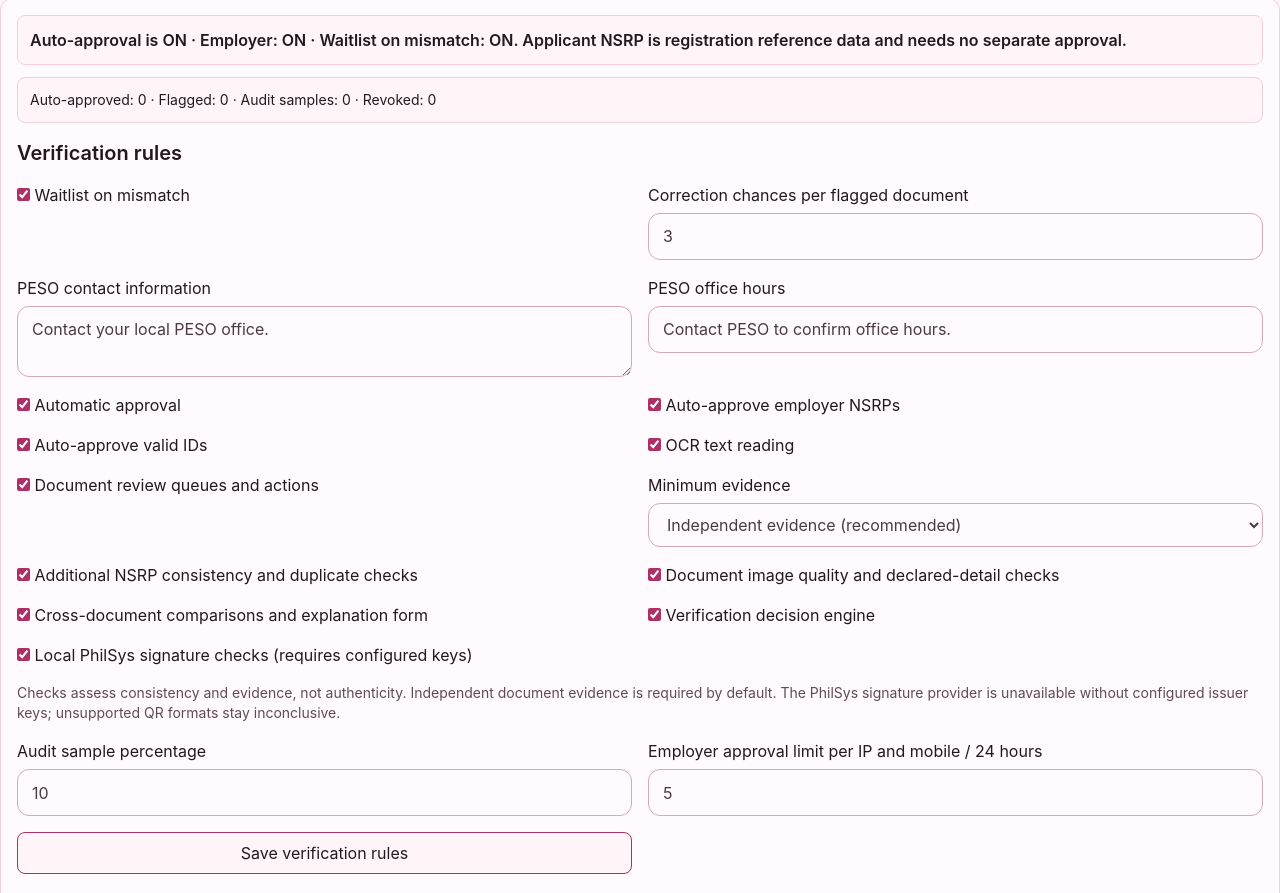
Scenario: loads the ON banner, validates settings controls, and saves admin choices
Expected: the text "Auto-approval is ON" is shown, [17,15,1263,65]
Step 1. Click the checkbox labelled "Auto-approve employer NSRPs" → (654, 404), box [648,398,661,411]
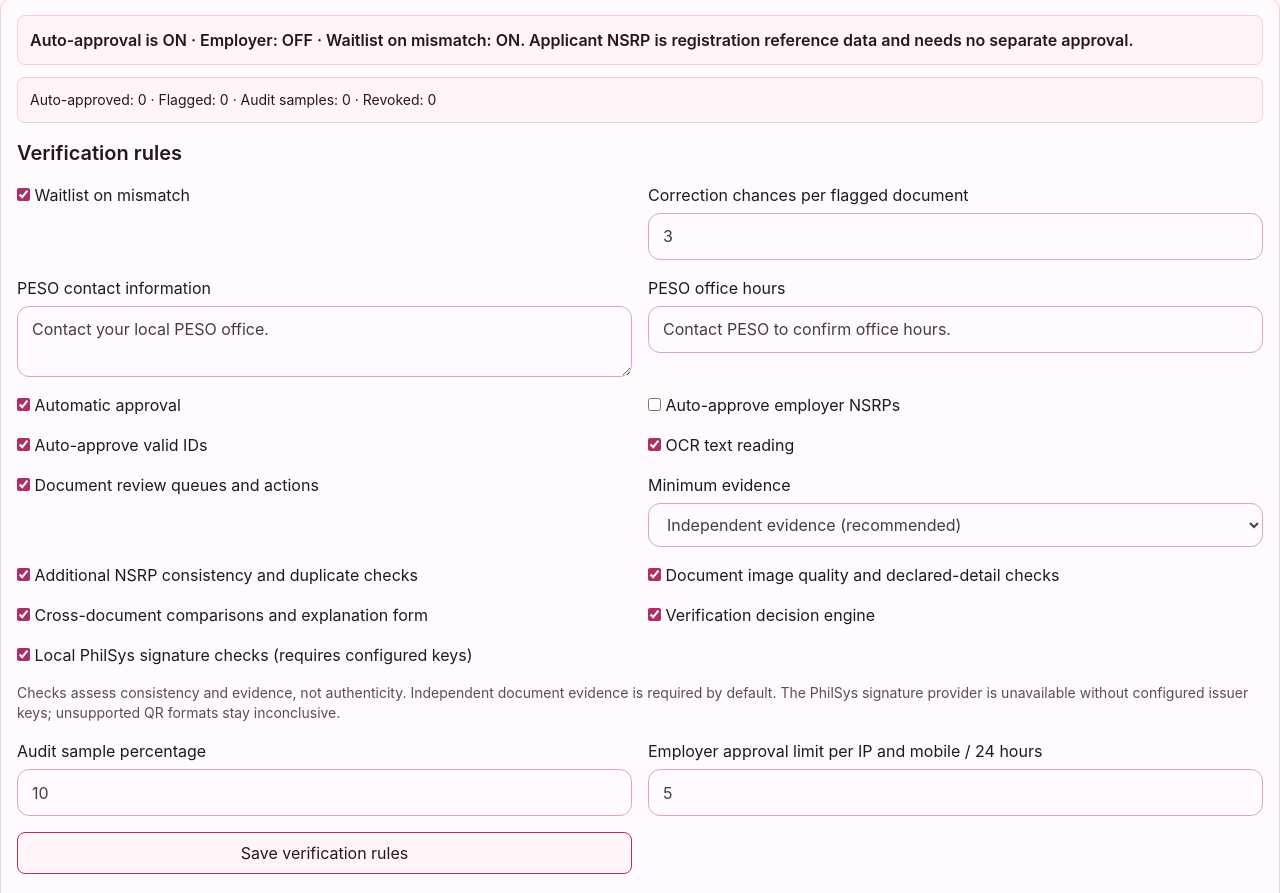
Step 2. Replace the text in the number field labelled "Audit sample percentage" with "25" → (324, 793), box [17,769,632,816]
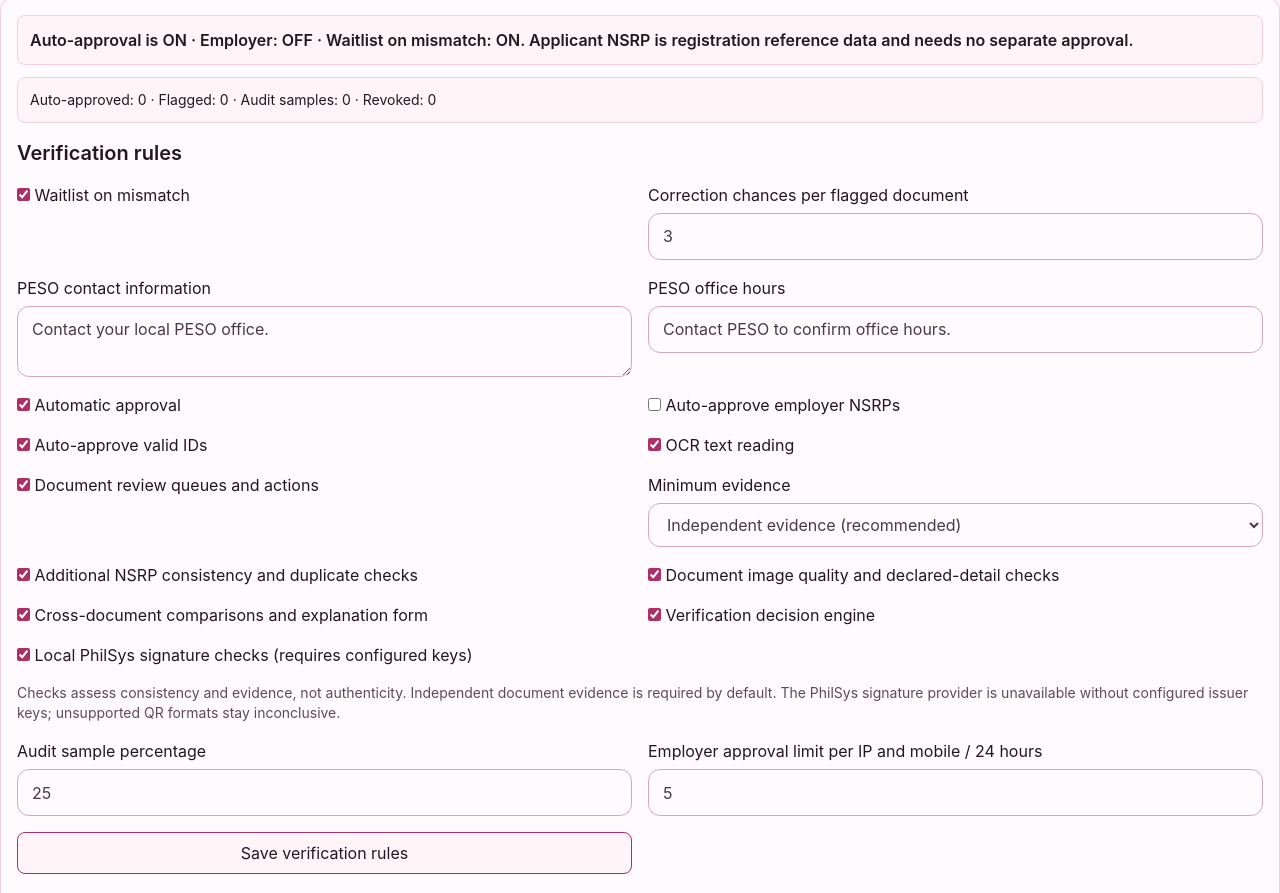
Step 3. Click the button "Save verification rules" → (324, 853), box [17,832,632,874]
(page scrolled)
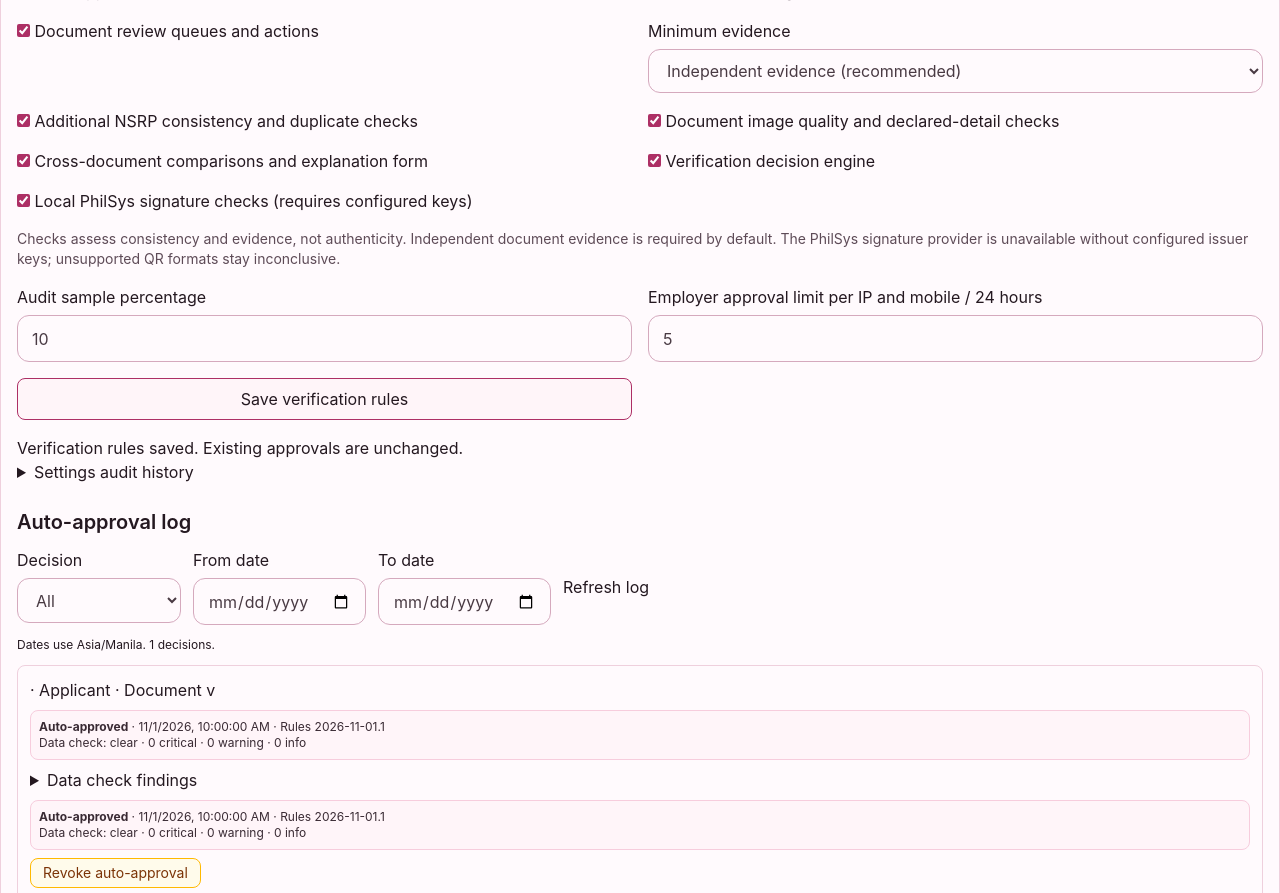
Expected: the message "Verification rules saved. Existing approvals are unchanged." is shown, [17,438,463,458]
